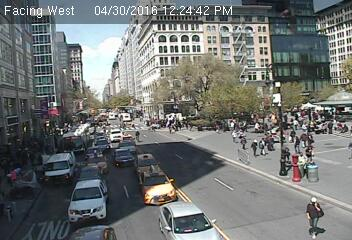neg: (325, 164, 348, 195), (306, 166, 322, 188), (288, 166, 302, 186), (274, 160, 287, 178)
pos: (296, 194, 329, 237), (246, 137, 260, 156)
